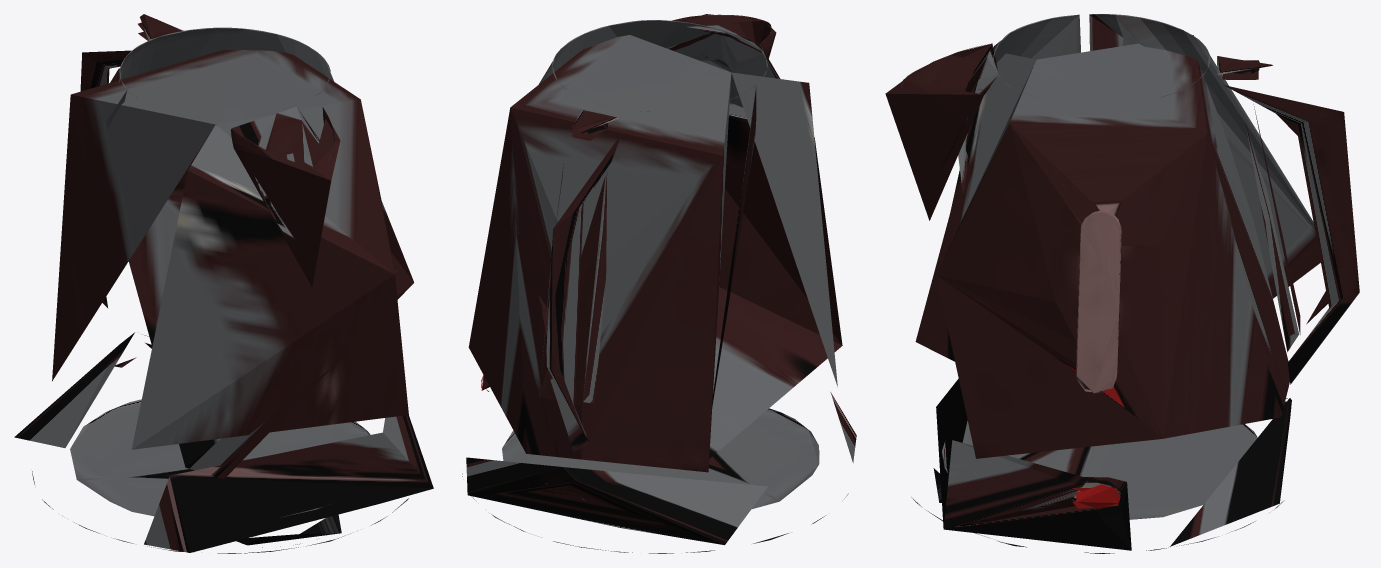
The model's file is kitchenware_kettle_j01.glb.
3 renders of one model, left to right at view 1: azimuth 30°, elevation 25°; view 2: azimuth 150°, elevation 25°; view 3: azimuth 270°, elevation 25°, orthographic. The views are drawn at different scales.
Parts seen in each view (by area): view 1: geometry_0; view 2: geometry_0; view 3: geometry_0.
Part boxes in pixels (x1,y1,x2,y2): geometry_0: (14, 14, 433, 553); geometry_0: (462, 14, 856, 553); geometry_0: (885, 14, 1359, 553).
Bounding box in the file's own units: 0.3487 × 0.4094 × 0.42.
1 material, 1 textured.
